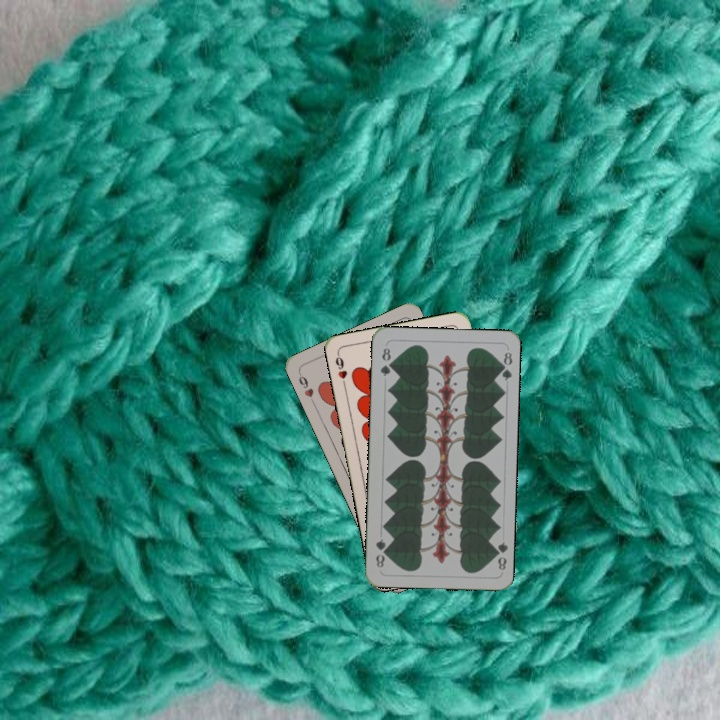G8: (489, 538, 509, 572), (376, 344, 394, 379)
H9: (295, 368, 318, 407), (331, 350, 350, 390)
